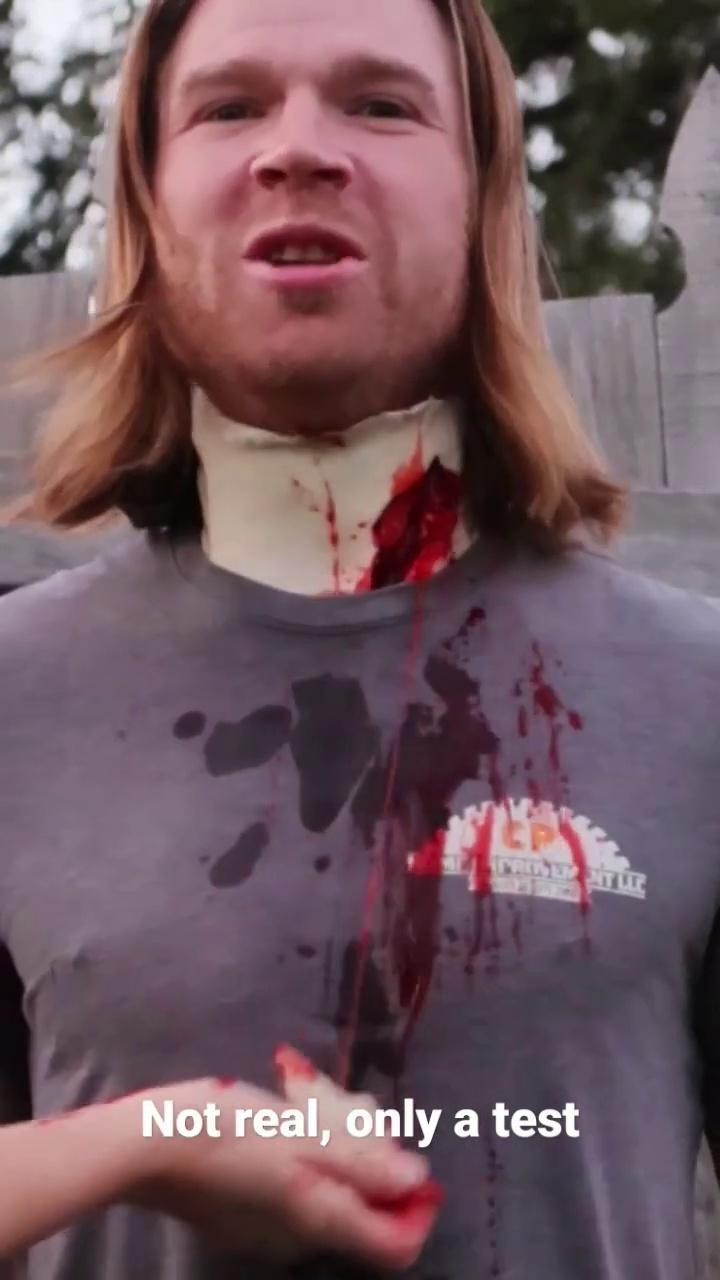Fire: (288, 398, 592, 1092), (367, 1176, 444, 1236), (273, 1045, 320, 1090)
